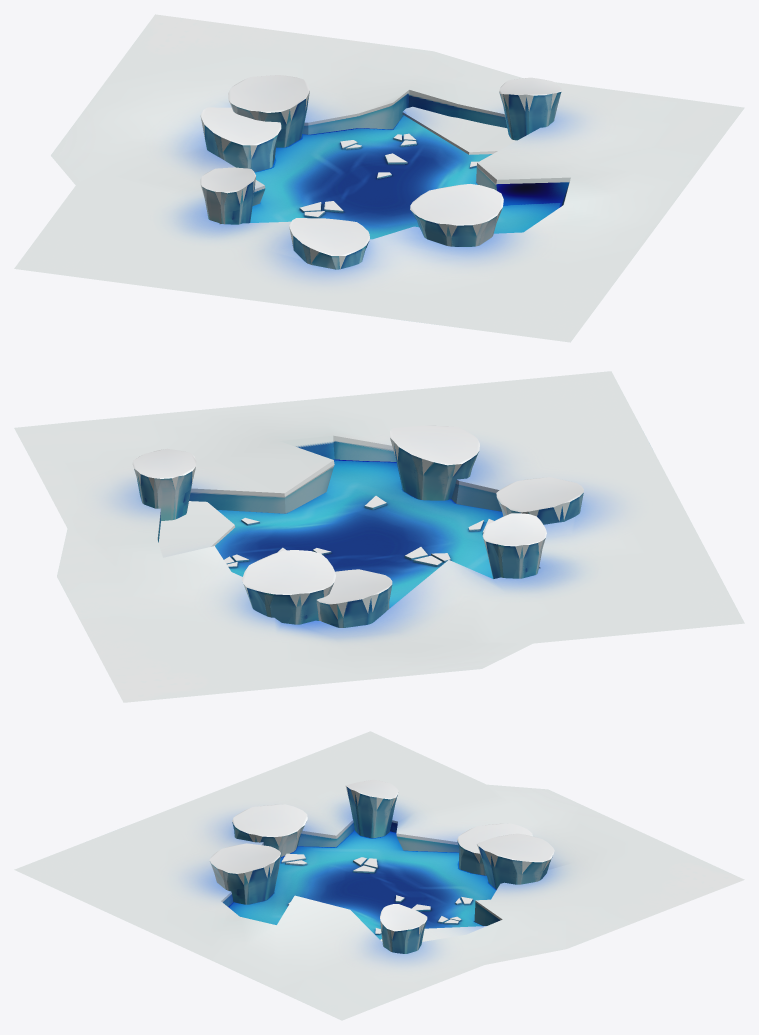
File: Snow_scape.fbx
3 renders of one model, top to bottom at view 1: azimuth 30°, elevation 25°; view 2: azimuth 150°, elevation 25°; view 3: azimuth 270°, elevation 25°, orthographic. The views are drawn at different scales.
Parts seen in each view (by area): view 1: Landscape_snow, Water, Landscape_Ice, Ice_float; view 2: Landscape_snow, Water, Landscape_Ice, Ice_float; view 3: Landscape_snow, Water, Landscape_Ice, Ice_float.
Boxes of the visible parts, box(x1,y1,x2,y2) form: Landscape_snow: box(14, 14, 744, 342); Water: box(250, 115, 569, 239); Landscape_Ice: box(202, 92, 568, 269); Ice_float: box(299, 133, 478, 218); Landscape_snow: box(14, 371, 744, 702); Water: box(215, 459, 503, 608); Landscape_Ice: box(136, 441, 583, 627); Ice_float: box(224, 495, 493, 568); Landscape_snow: box(14, 731, 744, 1020); Water: box(228, 830, 496, 939); Landscape_Ice: box(210, 787, 552, 953); Ice_float: box(281, 853, 472, 934).
Bounding box in the file's own units: 314 × 34.97 × 336.
